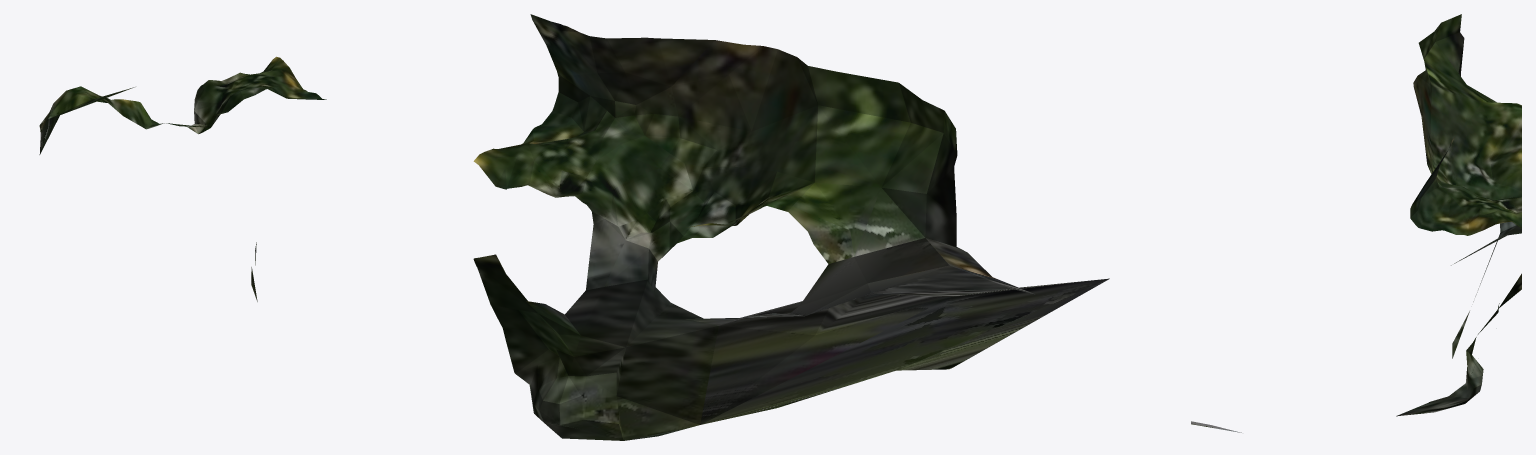
3 renders of one model, left to right at view 1: azimuth 30°, elevation 25°; view 2: azimuth 150°, elevation 25°; view 3: azimuth 270°, elevation 25°, orthographic. The views are drawn at different scales.
Size of the model in its own units: 1.67 by 1.64 by 1.67.
Materials: 4 (4 with a texture image).
